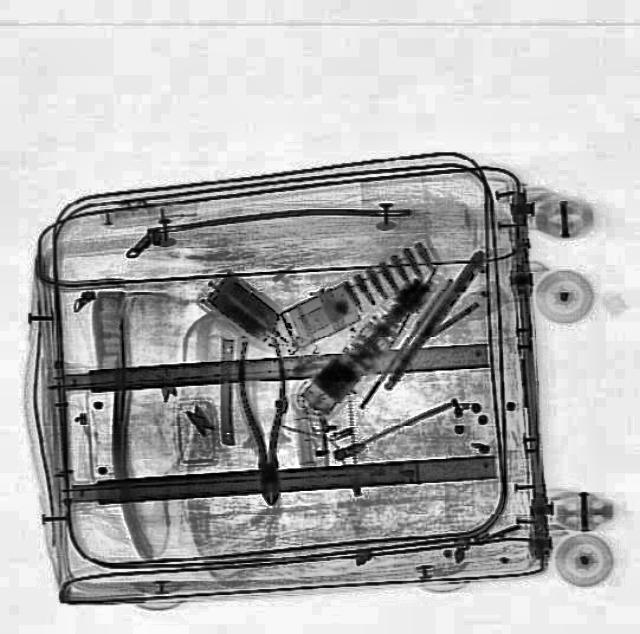Pliers: (234, 332, 294, 506)
